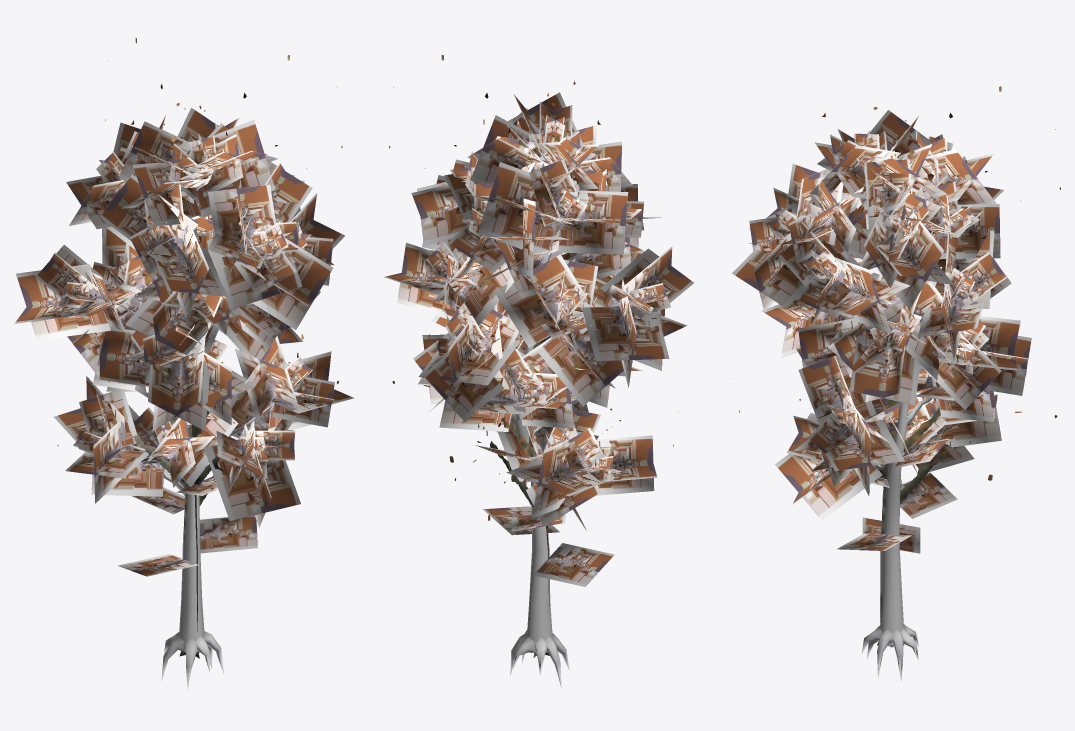
File: Tree-Beech2D.fbx
The picture shows the model from 3 angles, left to right: view 1: azimuth 30°, elevation 25°; view 2: azimuth 150°, elevation 25°; view 3: azimuth 270°, elevation 25°; orthographic projection. The views are drawn at different scales.
Parts seen in each view (by area): view 1: Tree-Beech2D_LOD0, Billboard-BeechD; view 2: Tree-Beech2D_LOD0, Billboard-BeechD; view 3: Tree-Beech2D_LOD0, Billboard-BeechD.
Part boxes in pixels (x1,y1,x2,y2): Tree-Beech2D_LOD0: (14, 108, 354, 689); Billboard-BeechD: (53, 38, 342, 658); Tree-Beech2D_LOD0: (384, 92, 693, 688); Billboard-BeechD: (389, 55, 678, 657); Tree-Beech2D_LOD0: (732, 110, 1031, 680); Billboard-BeechD: (734, 86, 1060, 645).
Size of what is drawn, in the model's own units: 1713 by 3241 by 1694.
